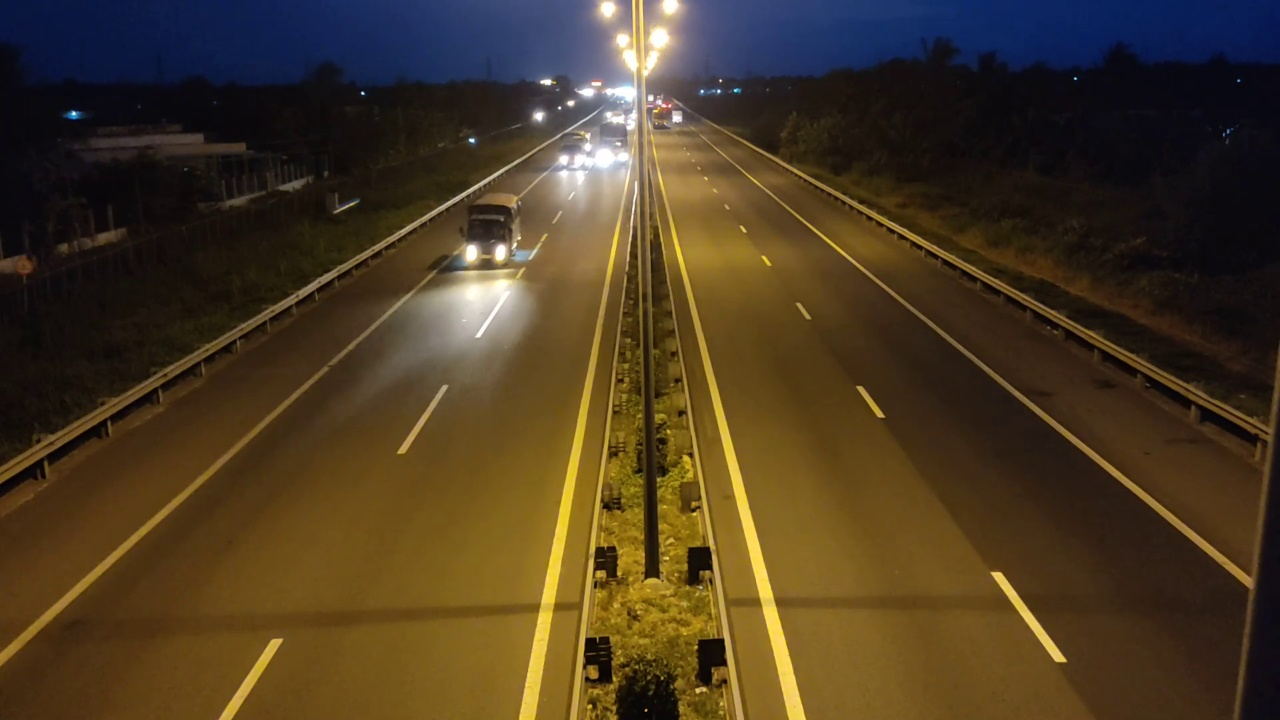truck: (458, 186, 523, 270)
